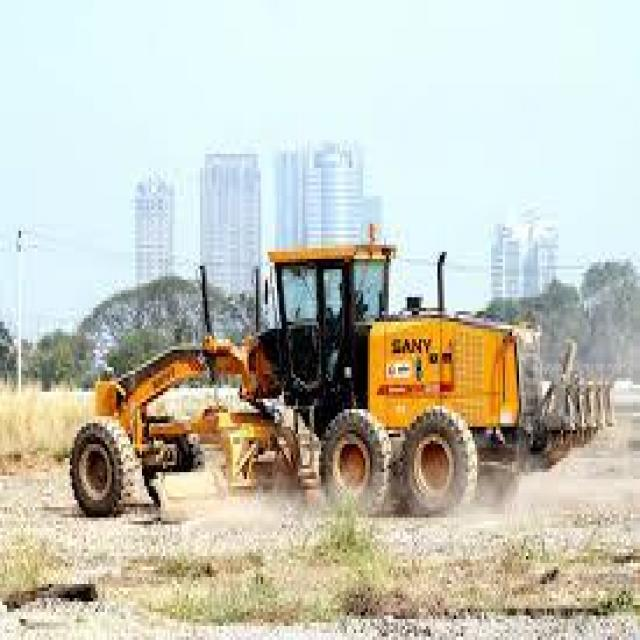Grader: (77, 234, 619, 546)
